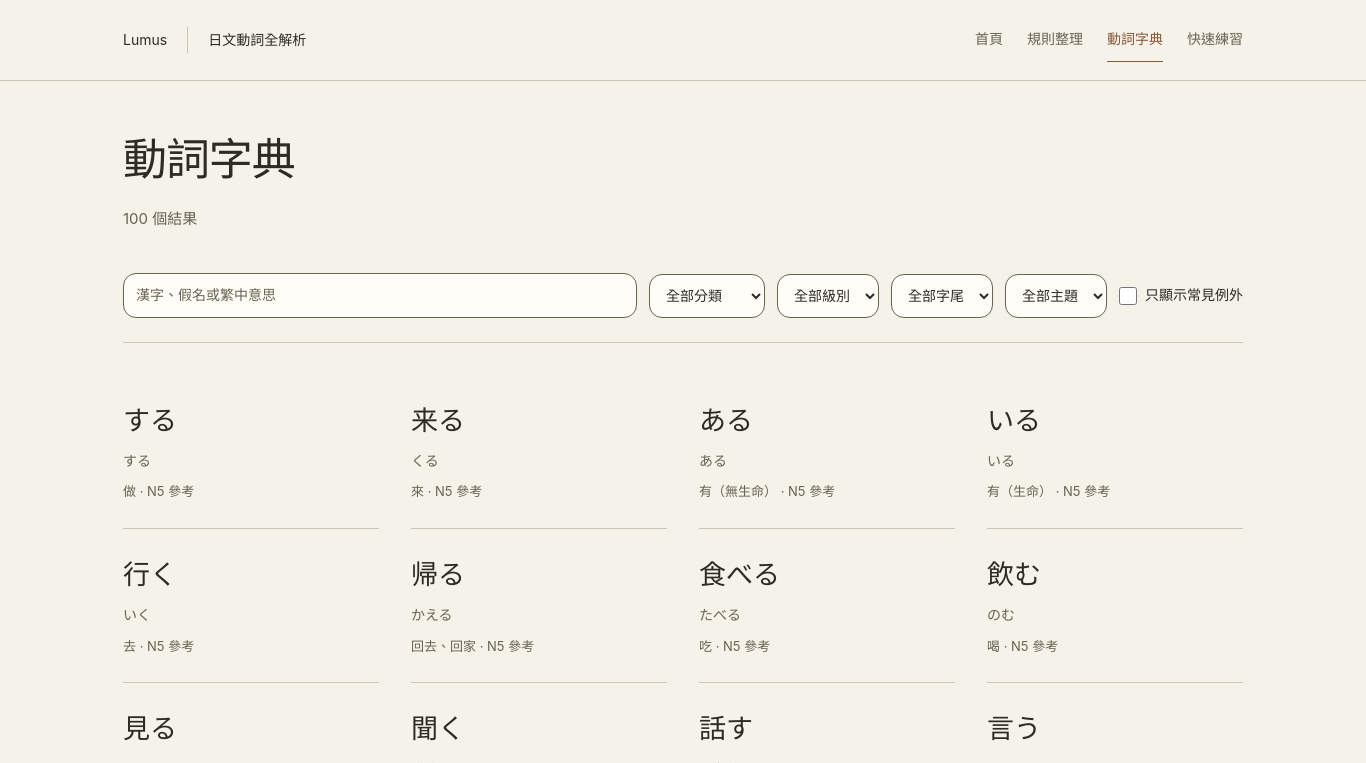
Test case: router › filters the dictionary by group
This screenshot has width=1366, height=763.
Select "不規則動詞" in the dropdown named "動詞分類" at {"x": 707, "y": 296}, box [649,274,765,318]
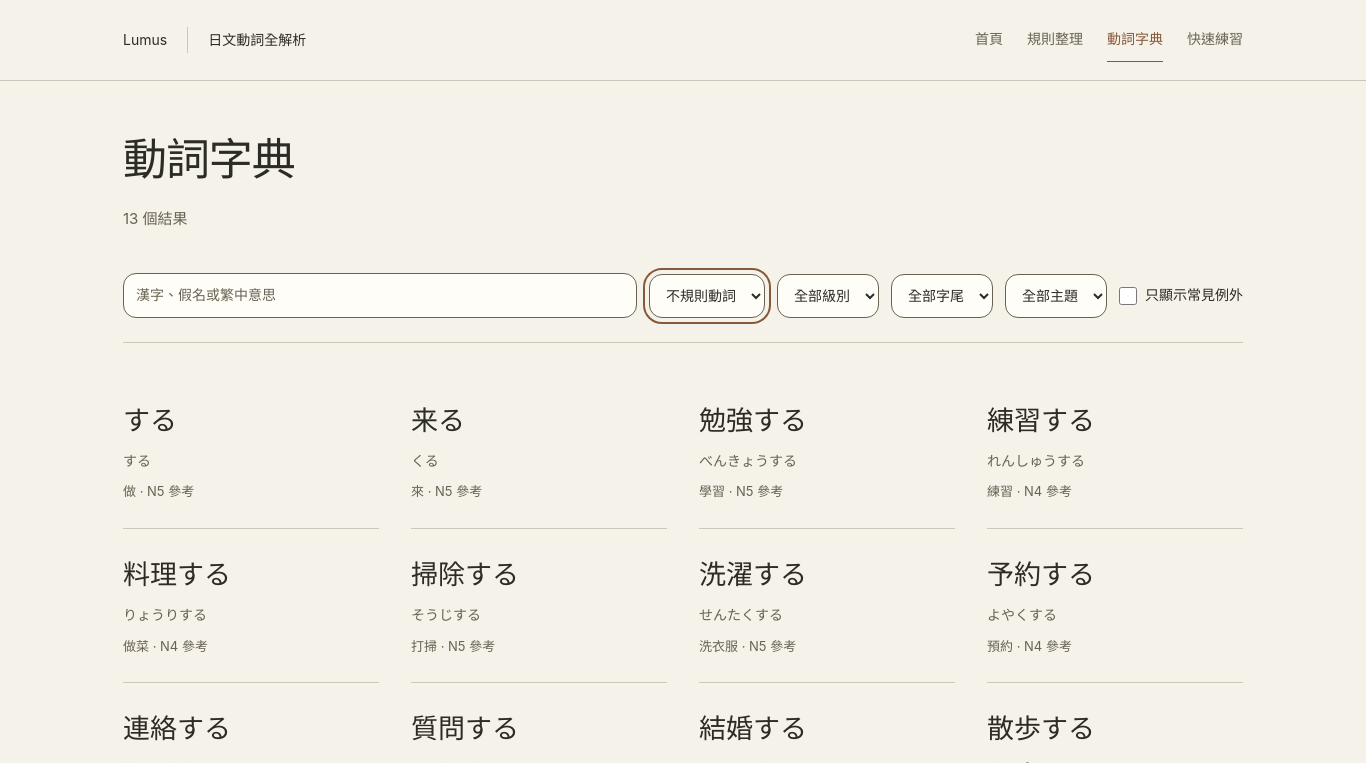
expect the text "勉強する" is shown: met, box [699,406,807,436]
expect the link "食べる" is gone: met
